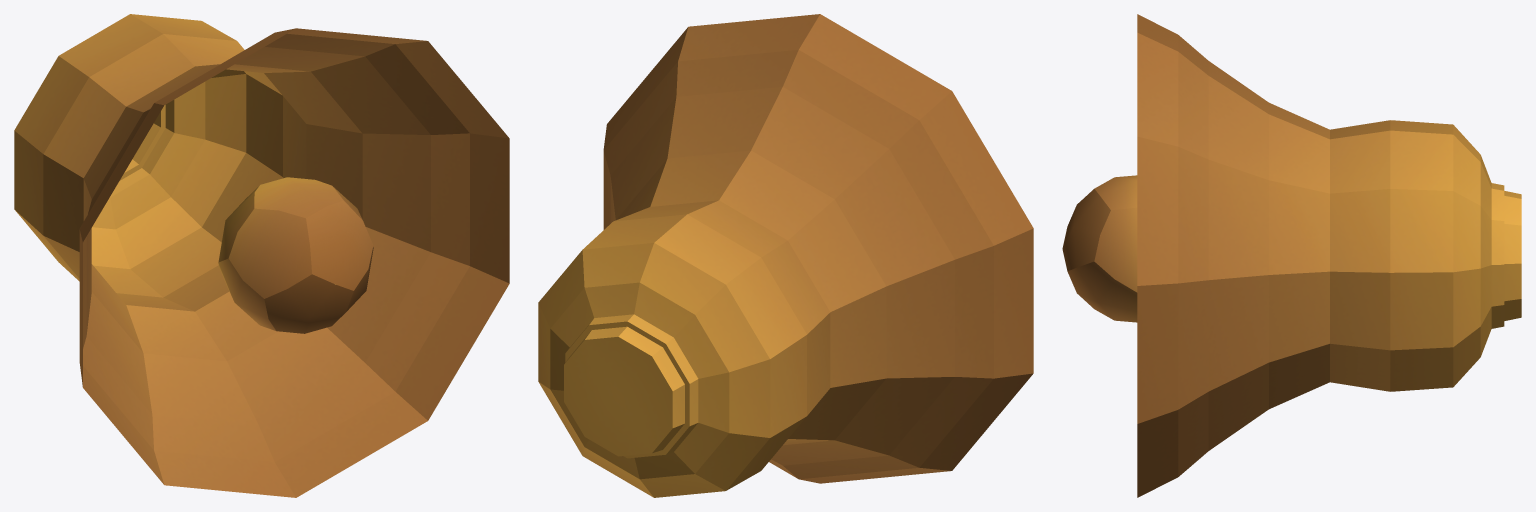
The model's file is bell.fbx.
The picture shows the model from 3 angles, left to right: view 1: azimuth 30°, elevation 25°; view 2: azimuth 150°, elevation 25°; view 3: azimuth 270°, elevation 25°; orthographic projection. The views are drawn at different scales.
Parts seen in each view (by area): view 1: polySurface1, polySurface2; view 2: polySurface1; view 3: polySurface1, polySurface2.
Part boxes in pixels (x1,y1,x2,y2): polySurface1: [14, 14, 509, 497]; polySurface2: [218, 177, 373, 333]; polySurface1: [538, 14, 1033, 497]; polySurface1: [1137, 14, 1521, 497]; polySurface2: [1062, 175, 1137, 322].
Size of the model in its own units: 48.55 by 51.05 by 47.53.
